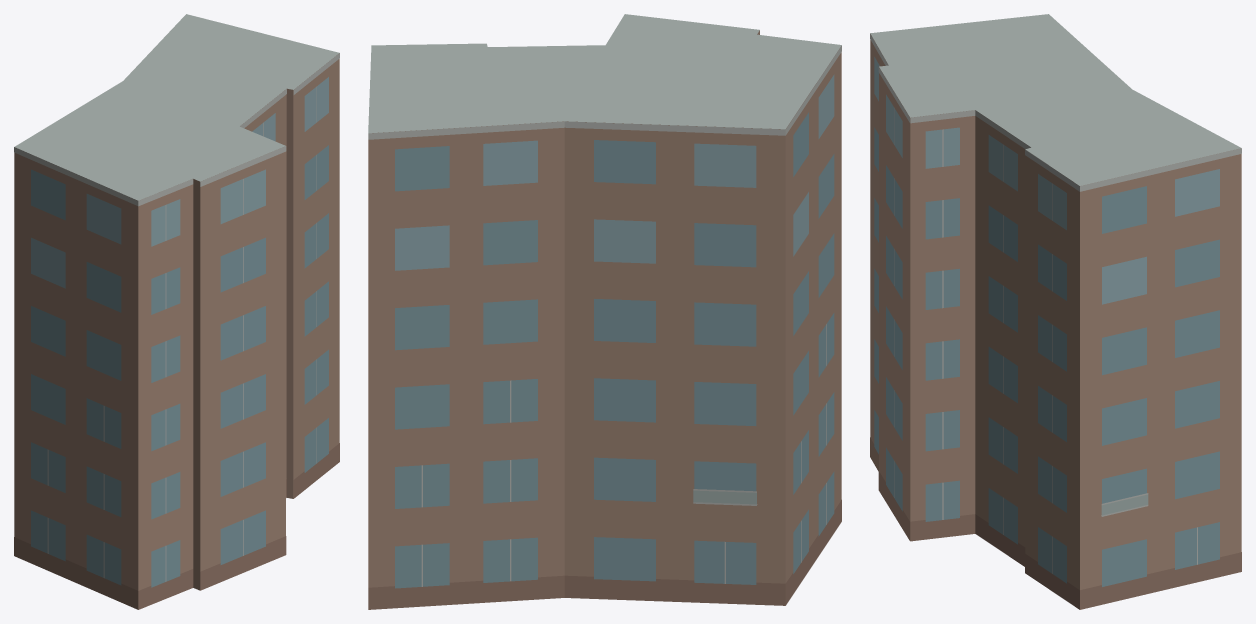
The model's file is survey-upis-32959180.glb.
The picture shows the model from 3 angles, left to right: view 1: azimuth 30°, elevation 25°; view 2: azimuth 150°, elevation 25°; view 3: azimuth 270°, elevation 25°; orthographic projection. The views are drawn at different scales.
Parts seen in each view (by area): view 1: survey-upis-32959180.tmp; view 2: survey-upis-32959180.tmp; view 3: survey-upis-32959180.tmp.
Boxes of the visible parts, x1,y1,x2,y2 form: survey-upis-32959180.tmp: [14, 14, 339, 609]; survey-upis-32959180.tmp: [368, 14, 841, 609]; survey-upis-32959180.tmp: [870, 14, 1241, 609].
Bounding box in the file's own units: 15.69 × 18 × 14.32.
